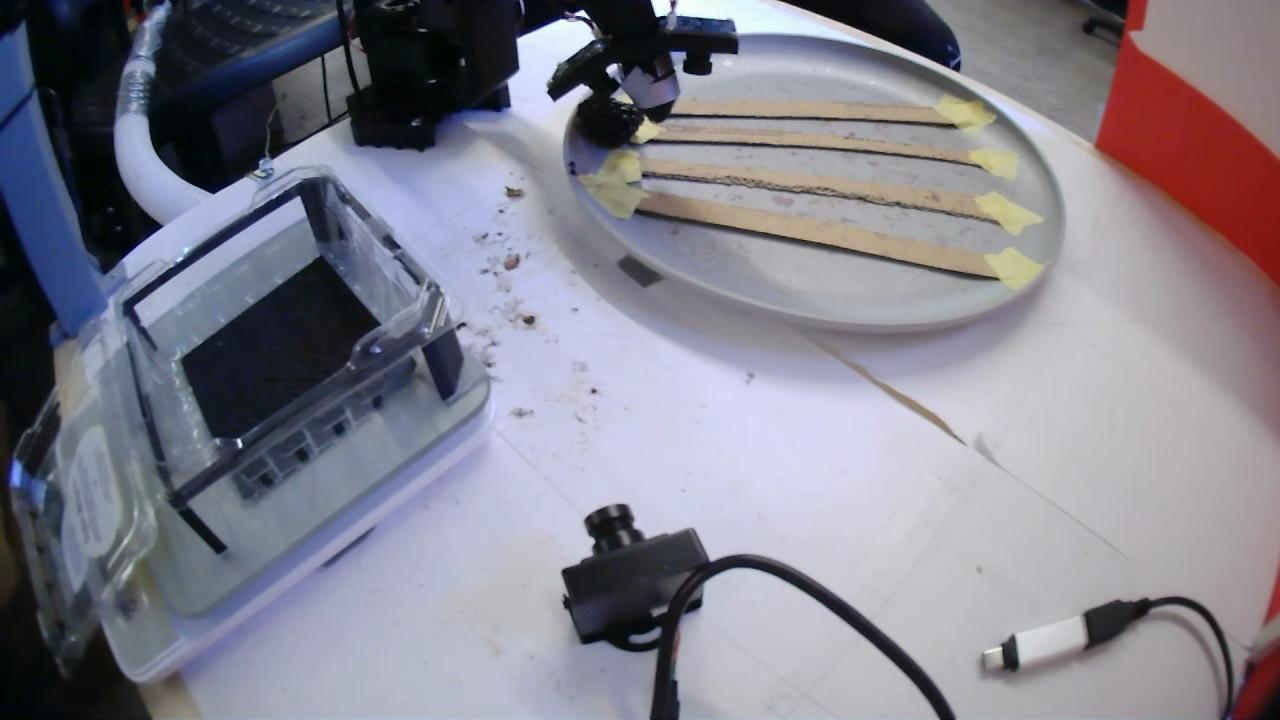berry: (576, 93, 644, 148)
